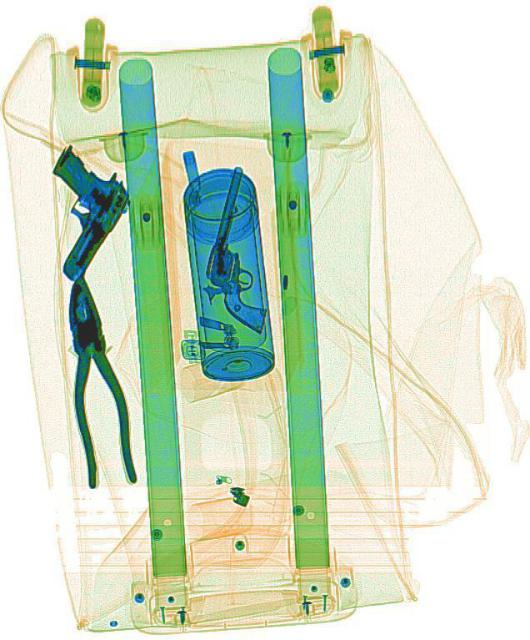Gun: (9, 137, 134, 283), (193, 162, 295, 332)
Pliers: (53, 264, 136, 492)
